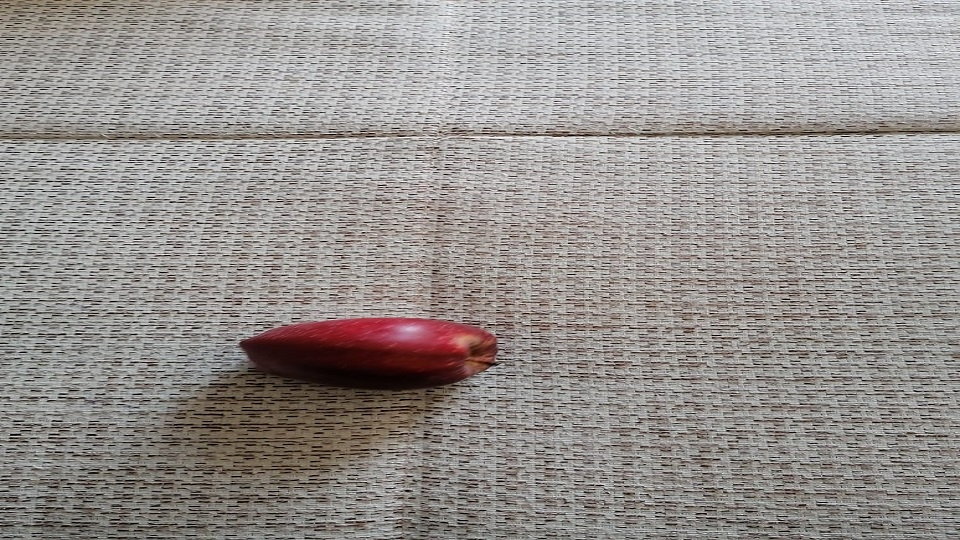elma: (237, 315, 502, 390)
